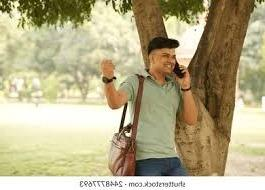Human: (96, 33, 197, 182)
